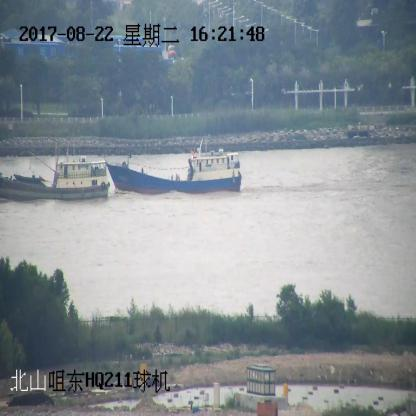Fishing Boat: (104, 140, 242, 194), (0, 143, 110, 198)
